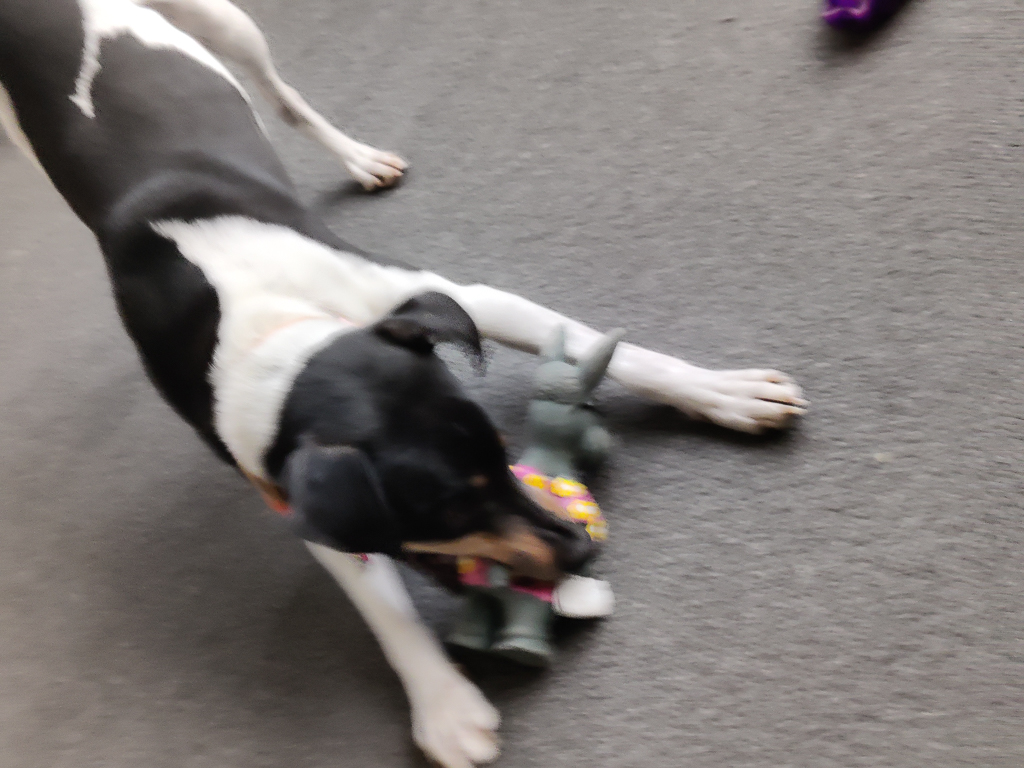Dog: (0, 0, 821, 768)
Humanoid: (372, 297, 693, 709)
